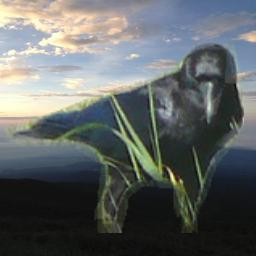Crow: (4, 43, 244, 233)
